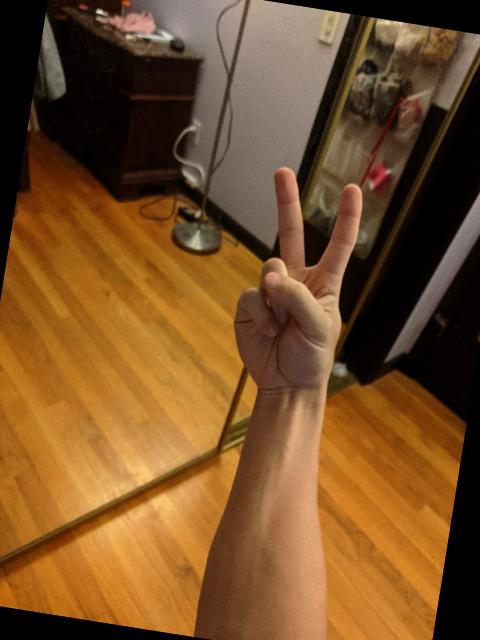V: (219, 158, 374, 404)
